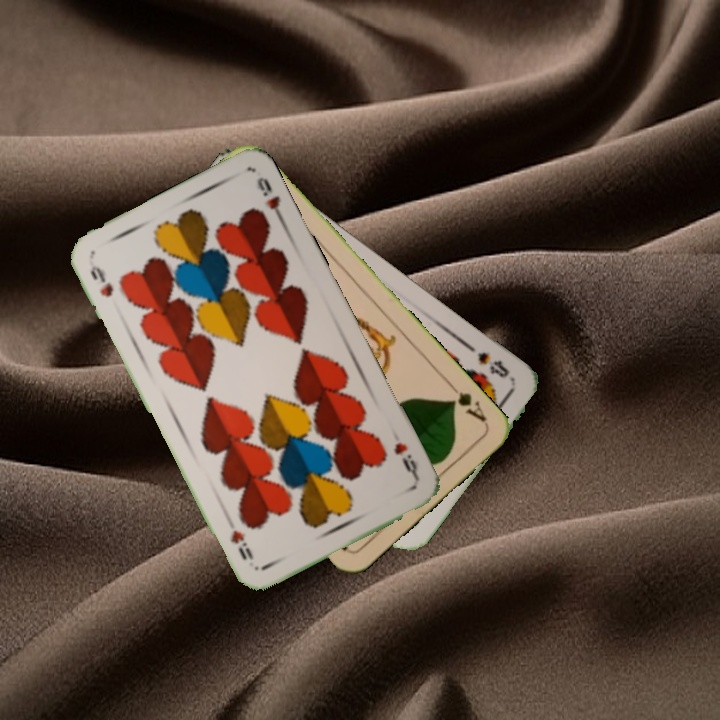GA: (444, 378, 489, 425)
H9: (390, 438, 421, 482), (86, 261, 116, 300)
S8: (473, 348, 512, 381)
